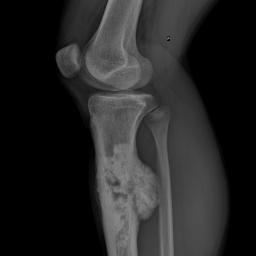cancer: (87, 108, 163, 256)
